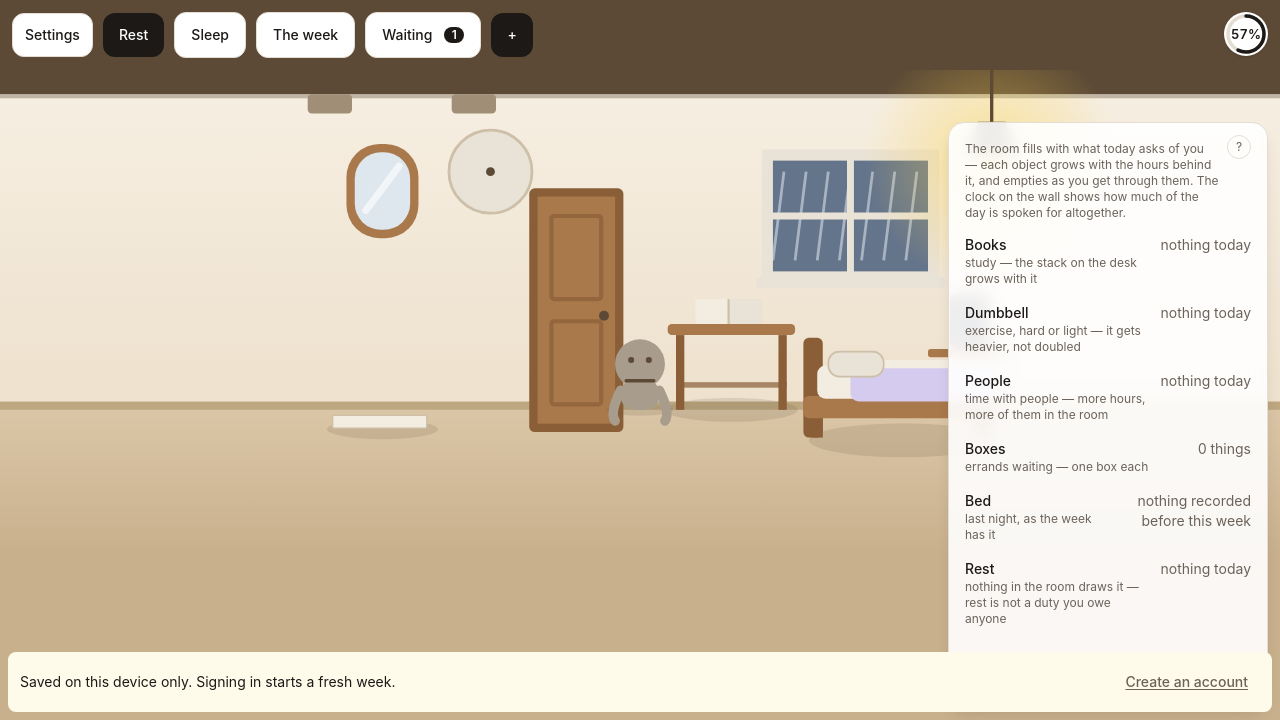
Test: RoomShell with the room › still flags a low social reserve as a warning, one tap behind the gauge
The width and height of the screenshot is (1280, 720).
Click the button with test id "room-gauge". click: (1246, 34)
box: top-left (1224, 12), bottom-right (1268, 56)
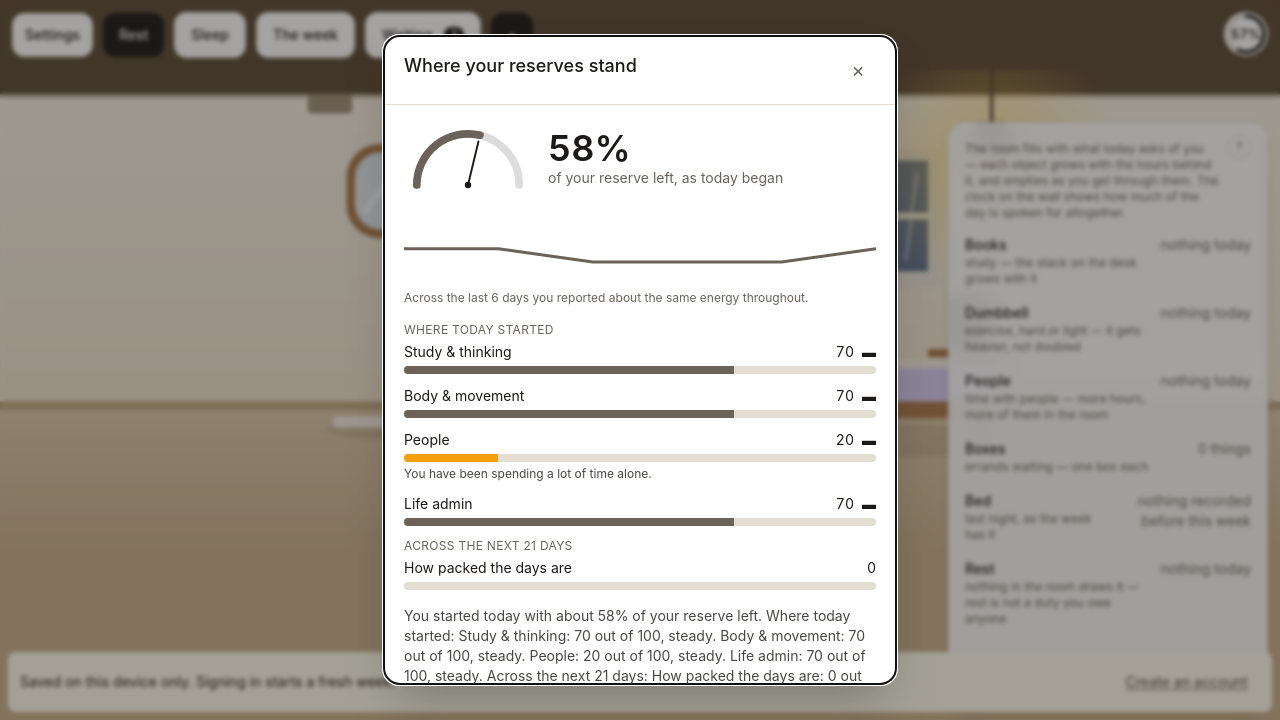
Expected: the text with test id "warning-social" shows "spending a lot of time alone", top-left (404, 466), bottom-right (652, 481)
